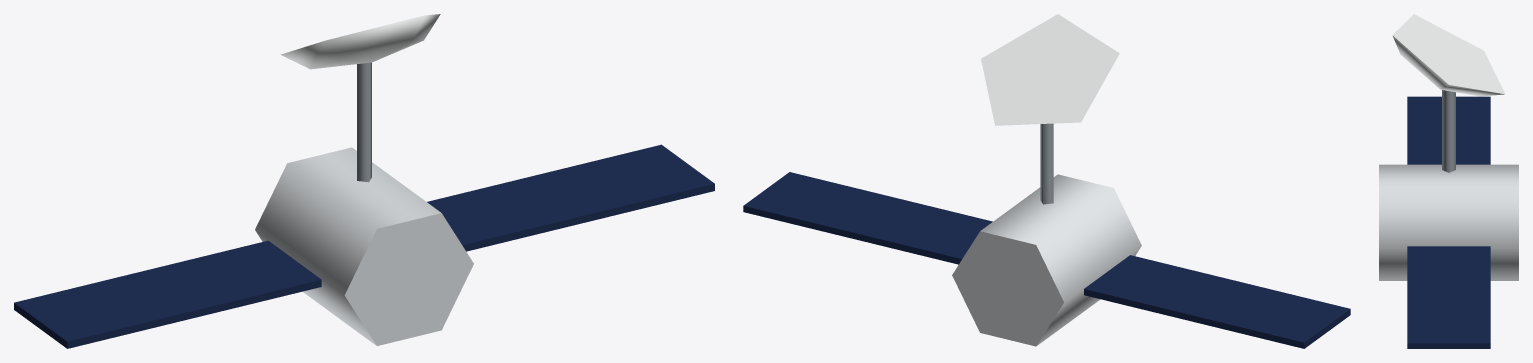
The model's file is space_ship_probe_mk2_lod2.glb.
3 renders of one model, left to right at view 1: azimuth 30°, elevation 25°; view 2: azimuth 150°, elevation 25°; view 3: azimuth 270°, elevation 25°, orthographic. The views are drawn at different scales.
Visible parts, largest first — view 1: body, solar_0, solar_1, antenna_0; view 2: body, solar_0, antenna_0, solar_1; view 3: body, solar_1, antenna_0, solar_0.
Part boxes in pixels (<box>): body: <box>255,147,473,345</box>; solar_0: <box>14,240,321,348</box>; solar_1: <box>427,144,714,251</box>; antenna_0: <box>281,14,440,182</box>; body: <box>952,174,1141,346</box>; solar_0: <box>1084,255,1350,348</box>; antenna_0: <box>981,14,1119,204</box>; solar_1: <box>743,172,992,264</box>; body: <box>1379,164,1518,280</box>; solar_1: <box>1407,246,1490,348</box>; antenna_0: <box>1392,14,1505,172</box>; solar_0: <box>1407,96,1490,164</box>.
Bounding box in the file's own units: 5.6 × 2.57 × 1.34.
